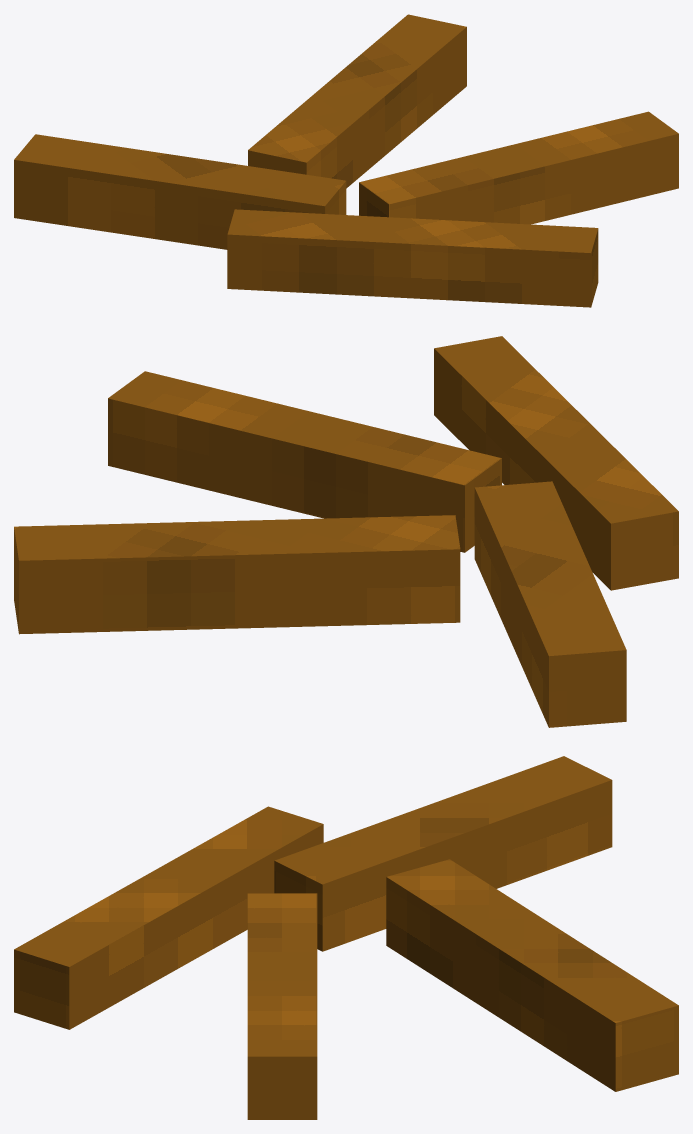
Rendered from PixelWoodPile.glb.
3 views of the same model, one above another, from view 1: azimuth 30°, elevation 25°; view 2: azimuth 150°, elevation 25°; view 3: azimuth 270°, elevation 25° (orthographic). The views are drawn at different scales.
Parts seen in each view (by area): view 1: Cube; view 2: Cube; view 3: Cube.
Part boxes in pixels (left/top/right/bottom): Cube: left=14, top=14, right=678, bottom=307; Cube: left=14, top=336, right=678, bottom=727; Cube: left=14, top=756, right=678, bottom=1119.
Bounding box in the file's own units: 6.88 × 0.7423 × 6.49.
Materials: 1 (1 with a texture image).
